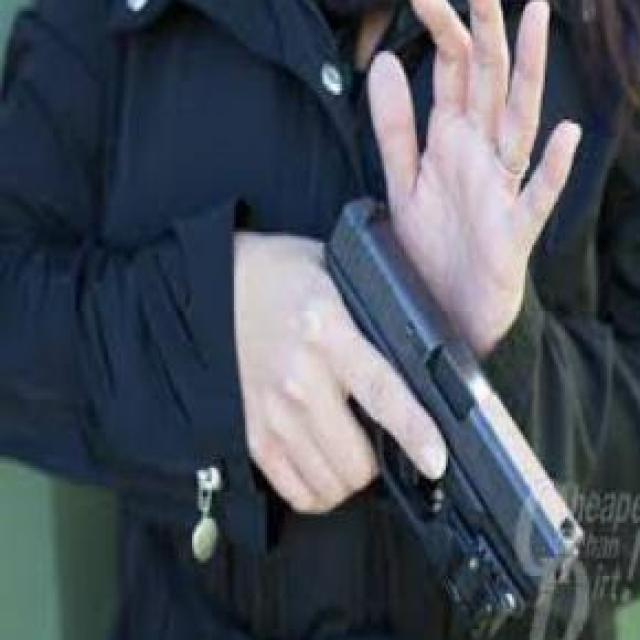pistol: (294, 190, 582, 628)
